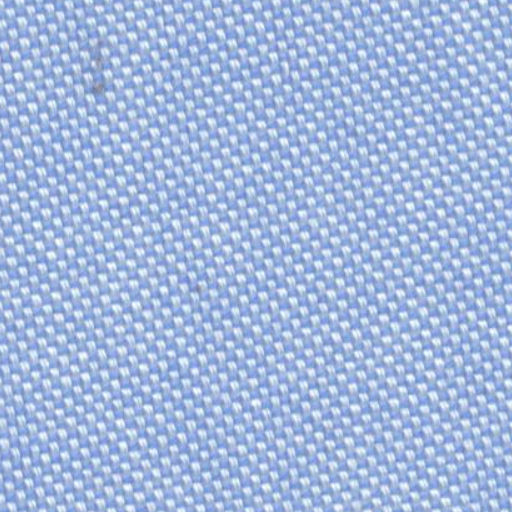WuZi: (64, 36, 125, 103)
